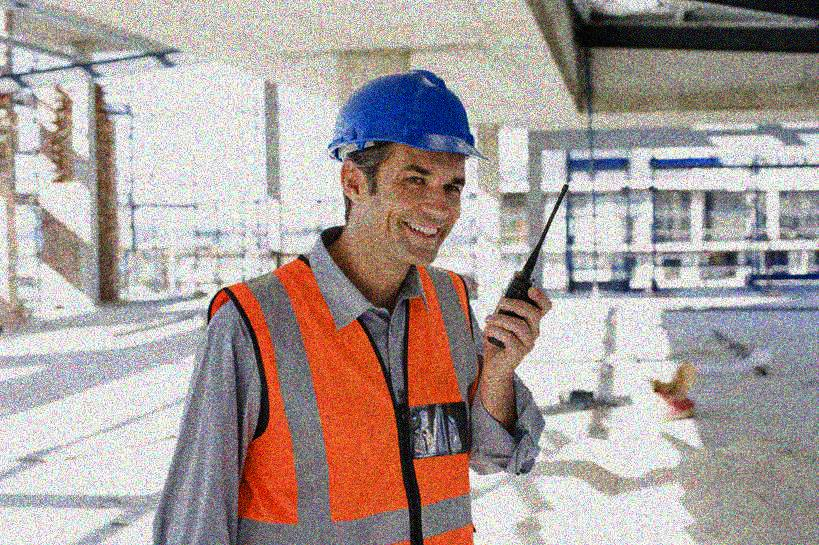helmet: (324, 71, 493, 267)
